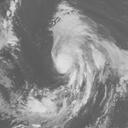cyclone: (50, 14, 97, 76)
